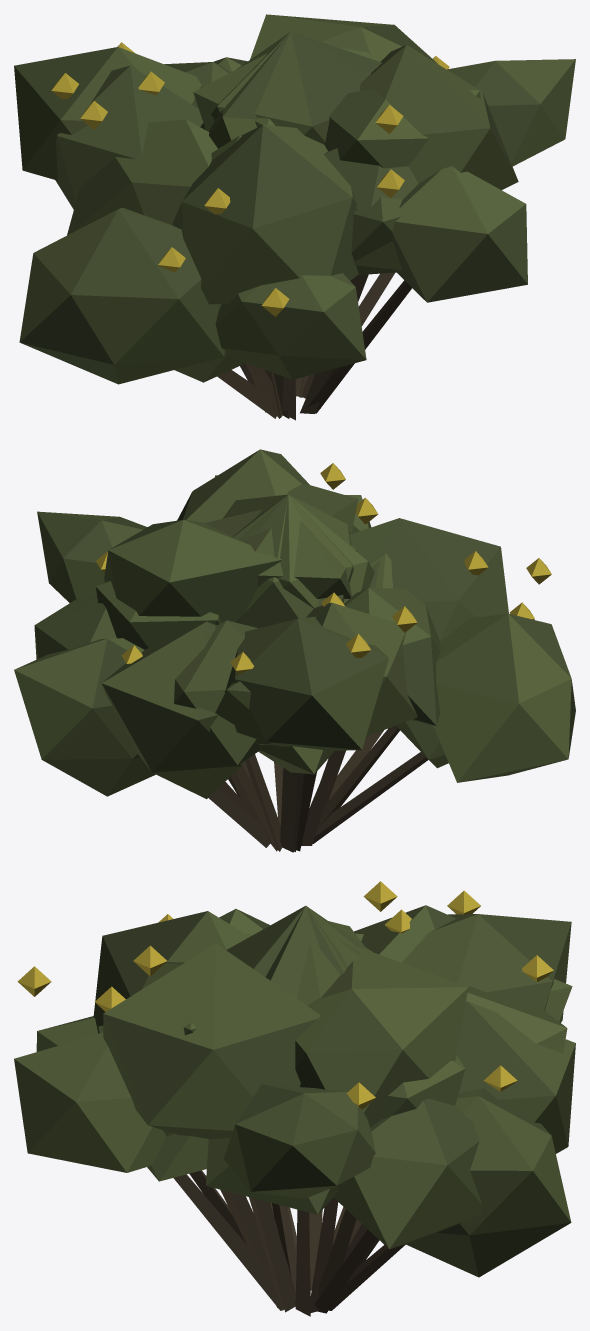
Rendered from creosote.glb.
3 views of the same model, one above another, from view 1: azimuth 30°, elevation 25°; view 2: azimuth 150°, elevation 25°; view 3: azimuth 270°, elevation 25° (orthographic). The views are drawn at different scales.
Parts seen in each view (by area): view 1: creosote_v0, creosote_v1, creosote_v2; view 2: creosote_v1, creosote_v0, creosote_v2; view 3: creosote_v2, creosote_v1, creosote_v0.
Part boxes in pixels (left/top/right/bottom): creosote_v0: left=19, top=31, right=480, bottom=418; creosote_v1: left=14, top=14, right=527, bottom=420; creosote_v2: left=67, top=45, right=575, bottom=418; creosote_v1: left=14, top=494, right=551, bottom=852; creosote_v0: left=95, top=463, right=575, bottom=852; creosote_v2: left=34, top=449, right=534, bottom=851; creosote_v2: left=98, top=881, right=575, bottom=1316; creosote_v1: left=14, top=890, right=571, bottom=1312; creosote_v0: left=93, top=906, right=567, bottom=1311.
Size of the model in its own units: 2.39 by 1.52 by 1.94.
